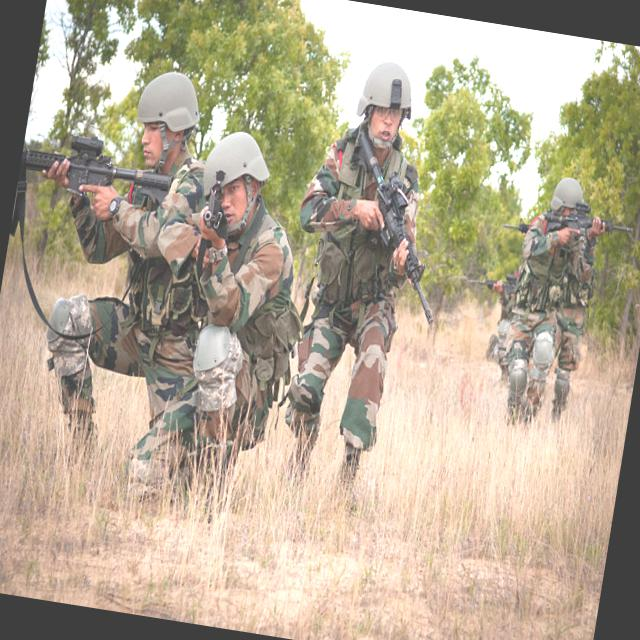long weapon: (325, 131, 476, 342), (9, 115, 181, 262), (536, 193, 632, 256)
